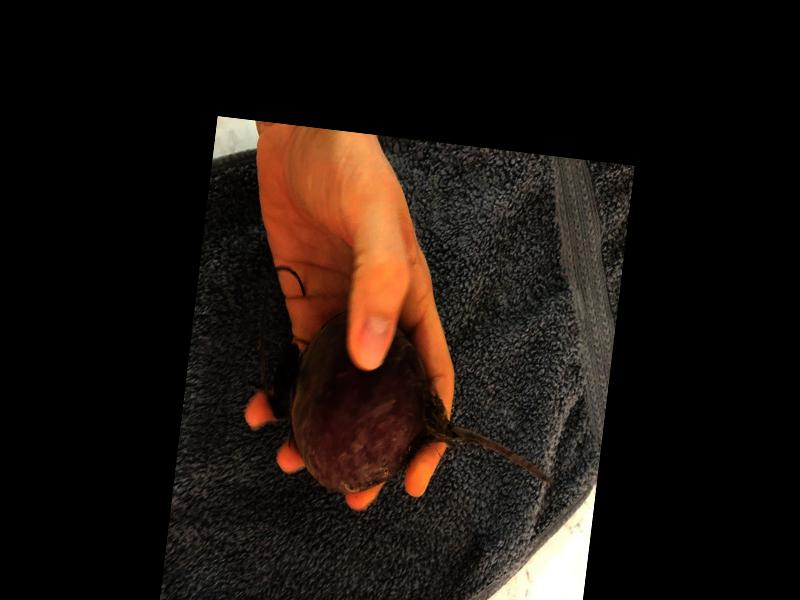Beet: (262, 303, 572, 518)
